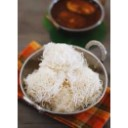idiyappam: (44, 43, 86, 72), (66, 68, 103, 100), (26, 68, 62, 100)
